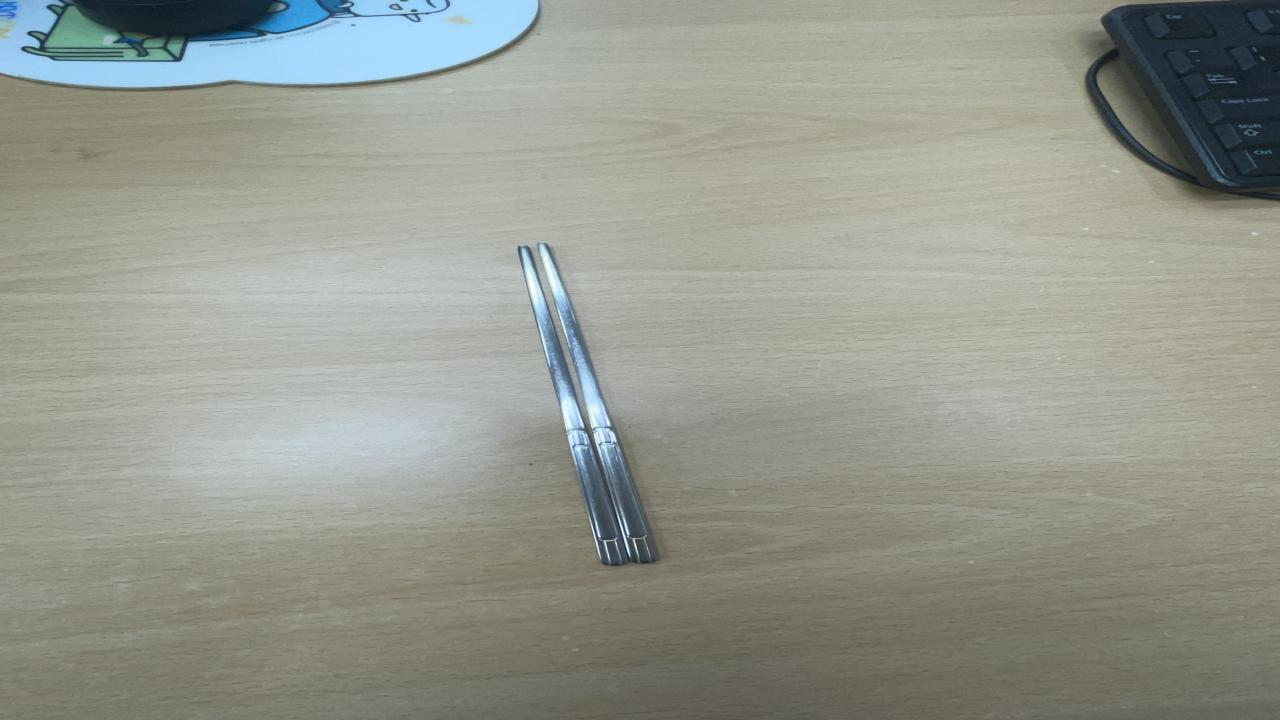chopstick: (507, 240, 665, 574)
